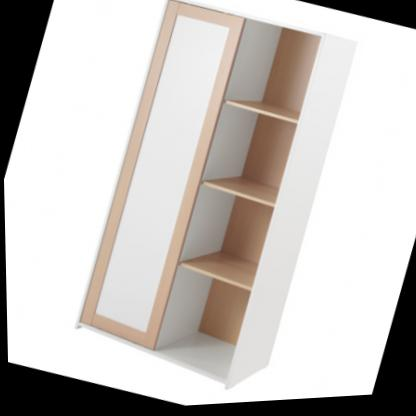Cabinet: (51, 0, 367, 412)
